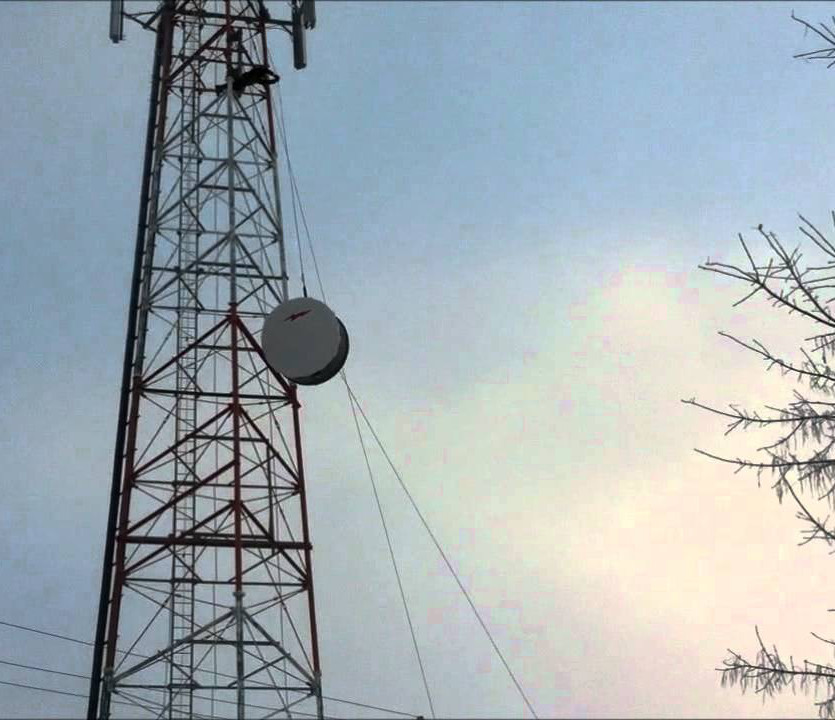ba: (244, 288, 359, 412)
